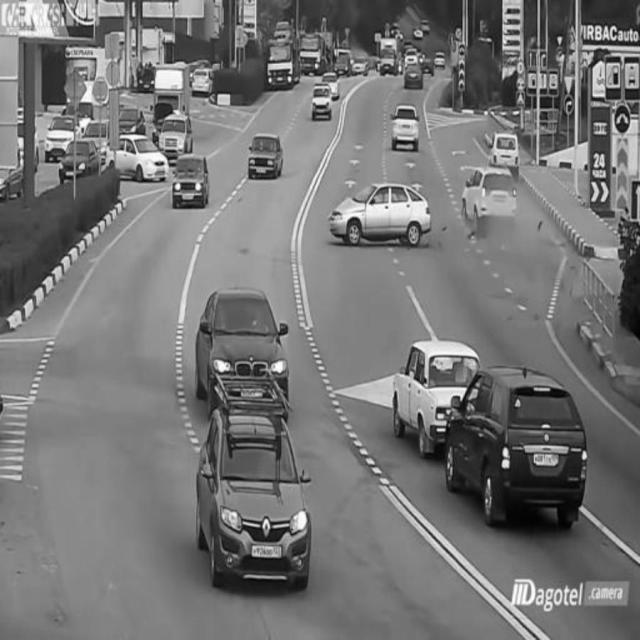vehicle: (199, 397, 312, 597), (448, 369, 590, 527), (193, 285, 297, 398), (389, 335, 467, 443), (328, 178, 431, 244), (461, 166, 523, 236), (103, 129, 169, 185), (55, 135, 103, 187), (170, 153, 211, 207), (265, 33, 302, 89), (488, 126, 526, 178), (246, 129, 284, 179), (42, 108, 80, 158), (160, 111, 197, 153), (390, 101, 420, 152), (311, 79, 336, 121), (375, 36, 399, 78), (402, 55, 429, 89), (193, 63, 215, 93)
